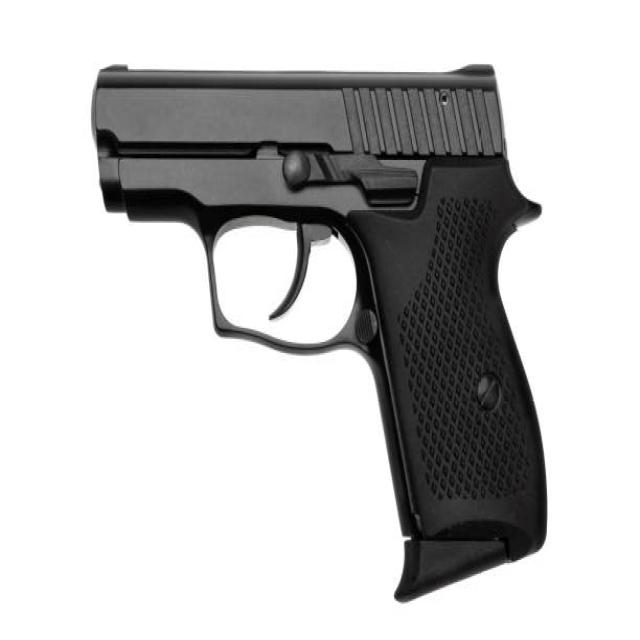pistol: (80, 53, 555, 608)
